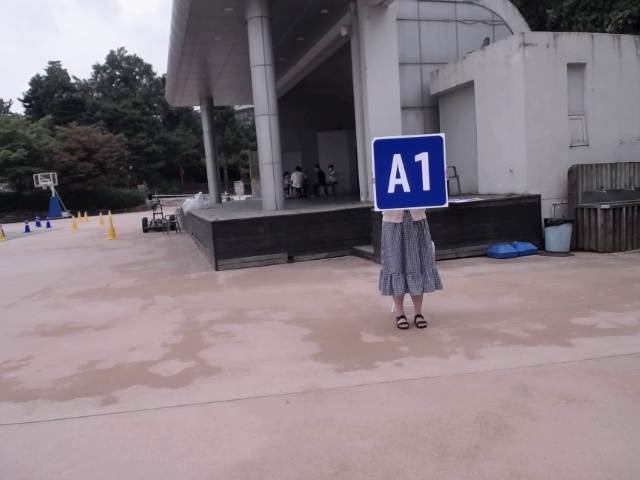delivery_a1: (371, 134, 448, 211)
